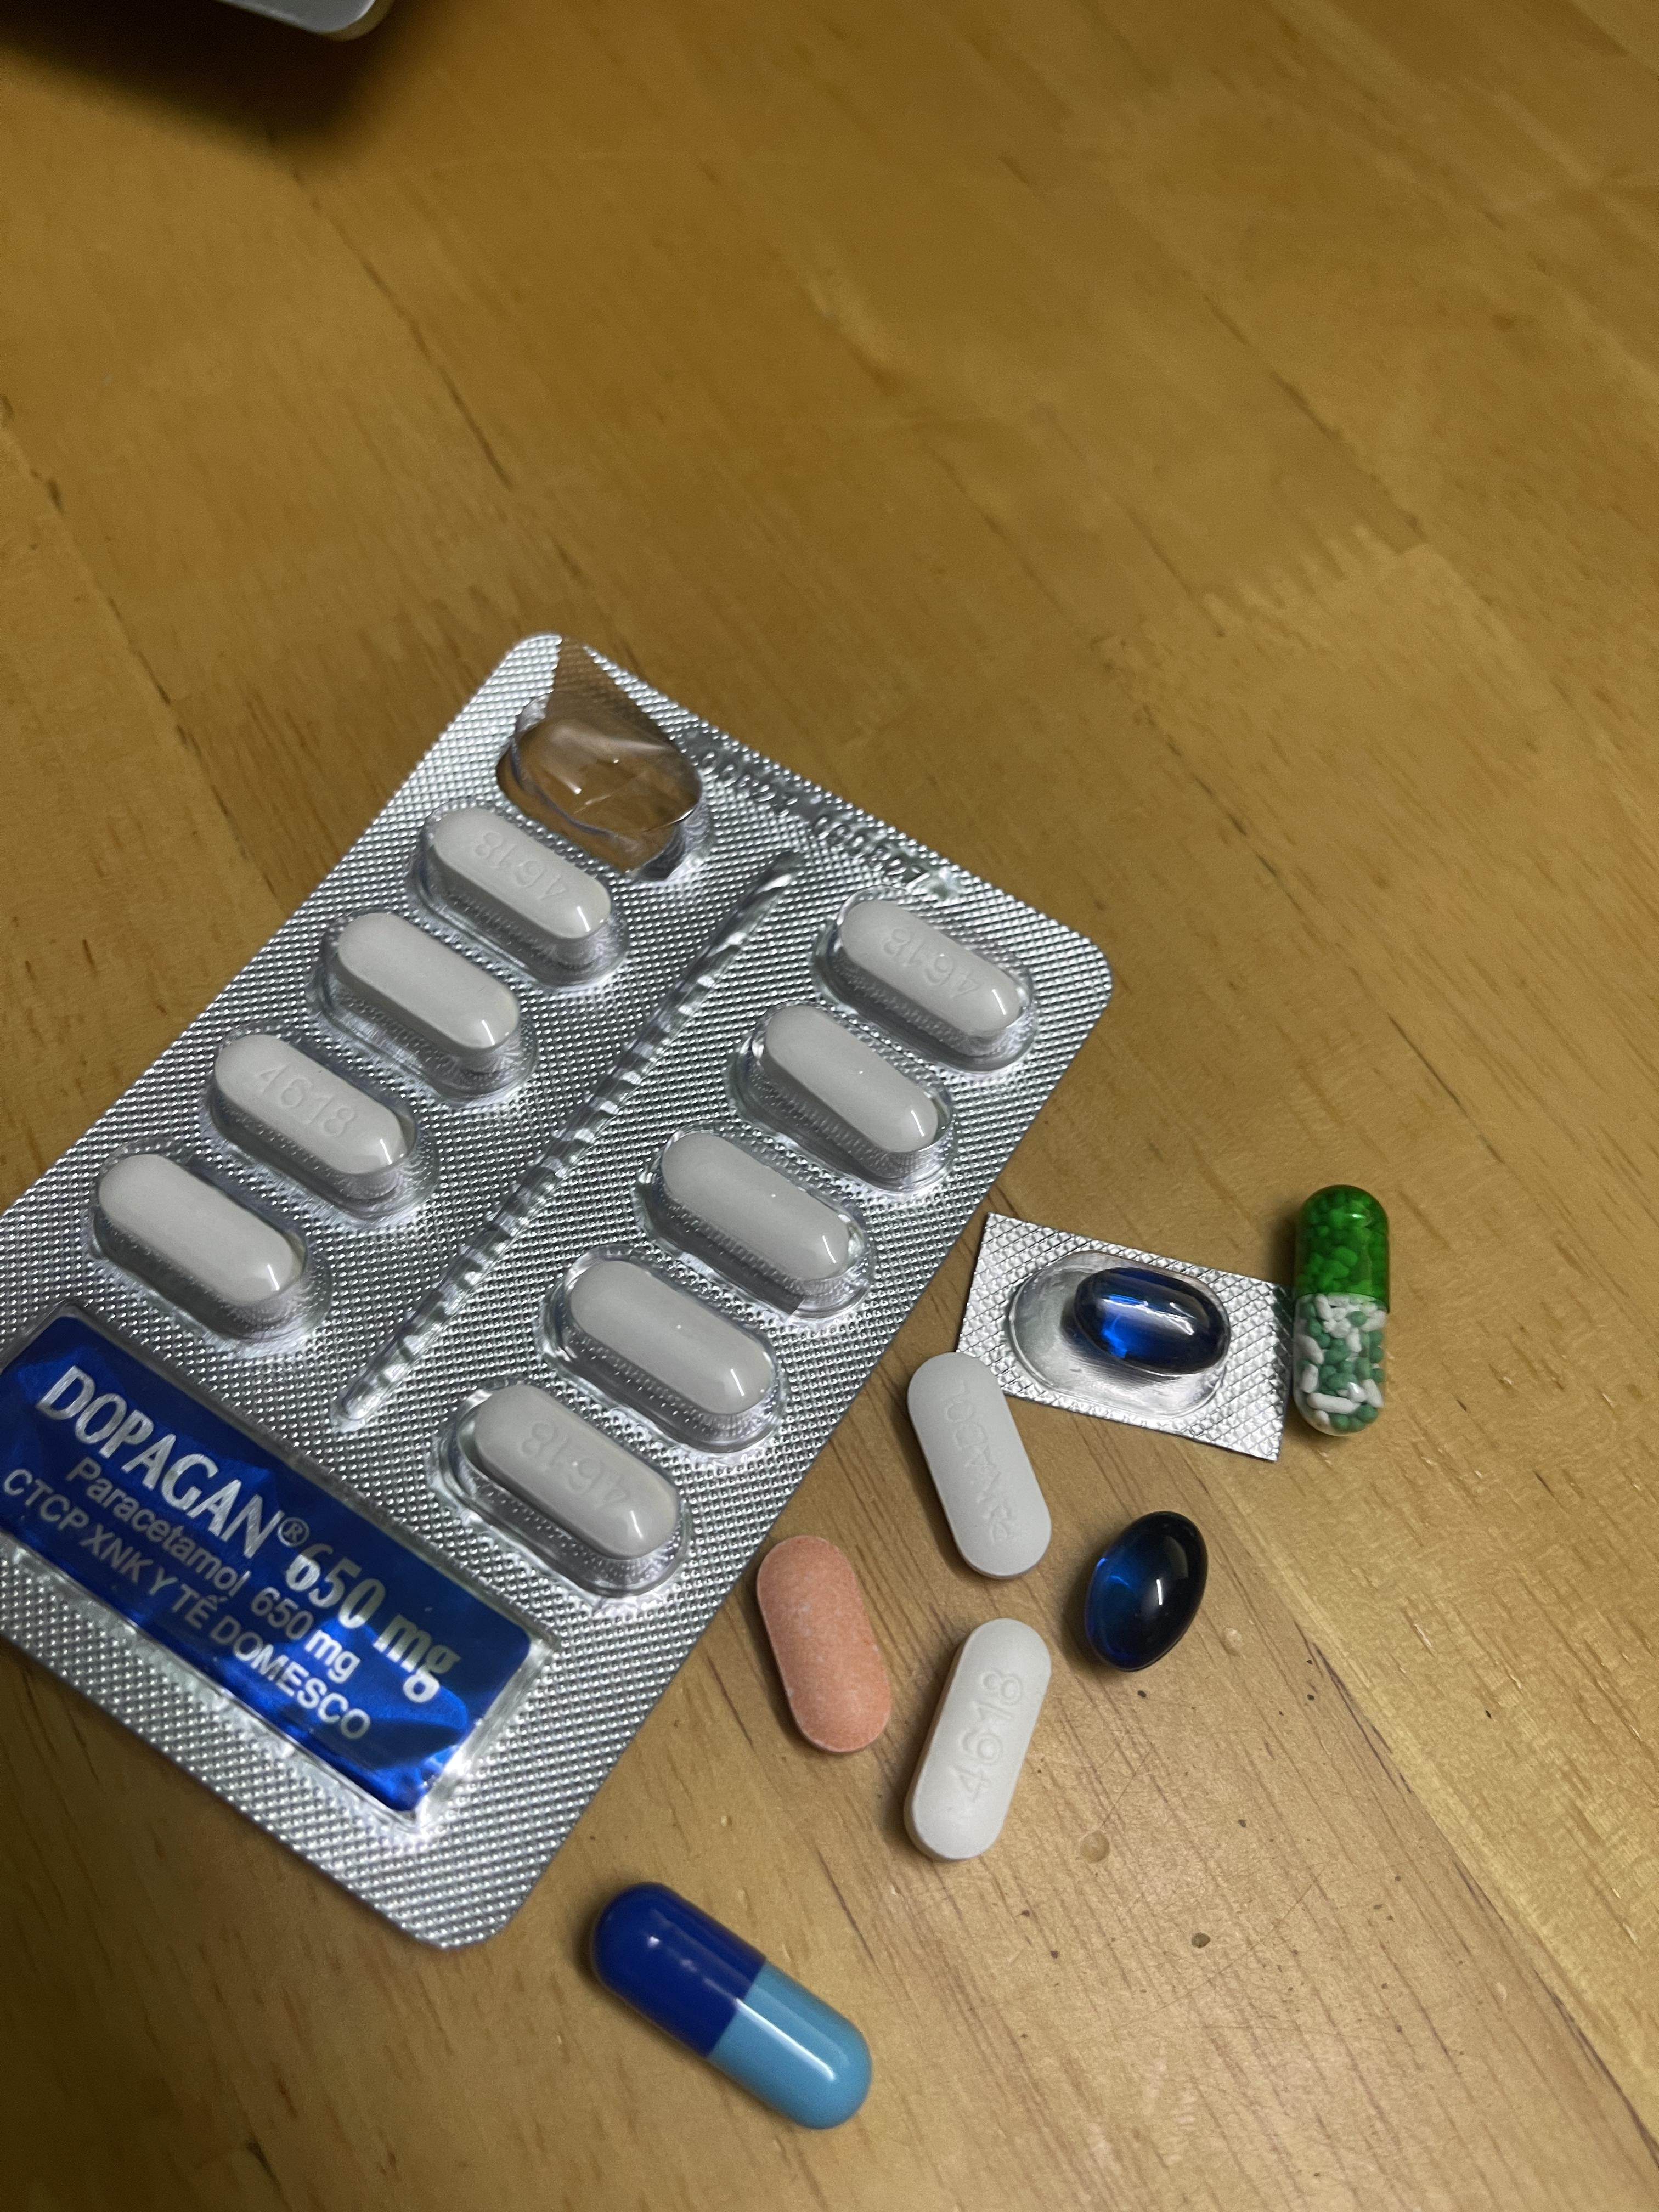Lincomyxin_500mg: (1082, 1514, 1204, 1670), (1066, 1271, 1225, 1372)
Loratadine_10mg: (755, 1534, 896, 1750)
Paracetamol_350mg: (906, 1352, 1053, 1581)
Paracetamol_500mg: (450, 1379, 678, 1578), (98, 1153, 319, 1343), (558, 1256, 781, 1444), (329, 906, 526, 1090), (904, 1625, 1051, 1857), (214, 1033, 411, 1197), (753, 1005, 948, 1163), (660, 1132, 850, 1291), (429, 808, 620, 965), (835, 897, 1026, 1052)
Paracetamol_650mg: (1293, 1190, 1391, 1430)
pill: (599, 1890, 864, 2121)
